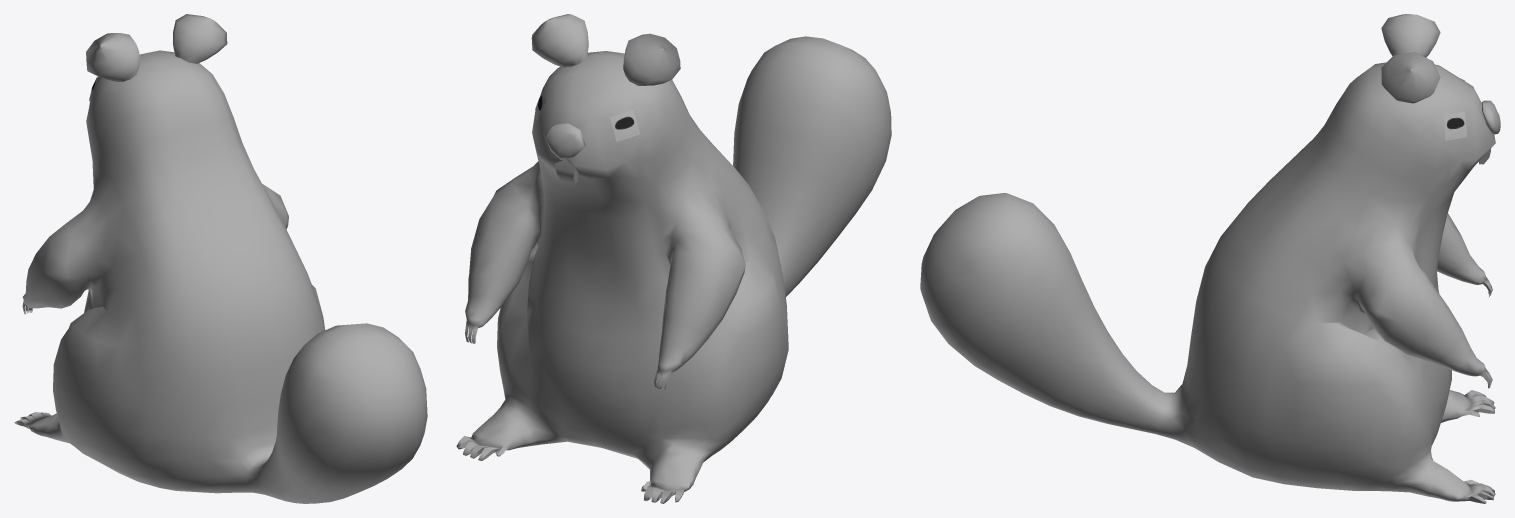
File: mesh_CactusBeaver_05.fbx
3 renders of one model, left to right at view 1: azimuth 30°, elevation 25°; view 2: azimuth 150°, elevation 25°; view 3: azimuth 270°, elevation 25°, orthographic. The views are drawn at different scales.
Parts seen in each view (by area): view 1: body, ears; view 2: body, ears, nose, Eyes; view 3: body, ears.
Part boxes in pixels (x1,y1,x2,y2): body: [14, 50, 427, 503]; ears: [86, 14, 227, 81]; body: [456, 36, 891, 503]; ears: [531, 14, 680, 85]; nose: [543, 123, 585, 159]; Eyes: [535, 88, 639, 141]; body: [920, 62, 1495, 503]; ears: [1381, 14, 1440, 103].
Size of the model in its own units: 3.44 by 5.54 by 6.88.
